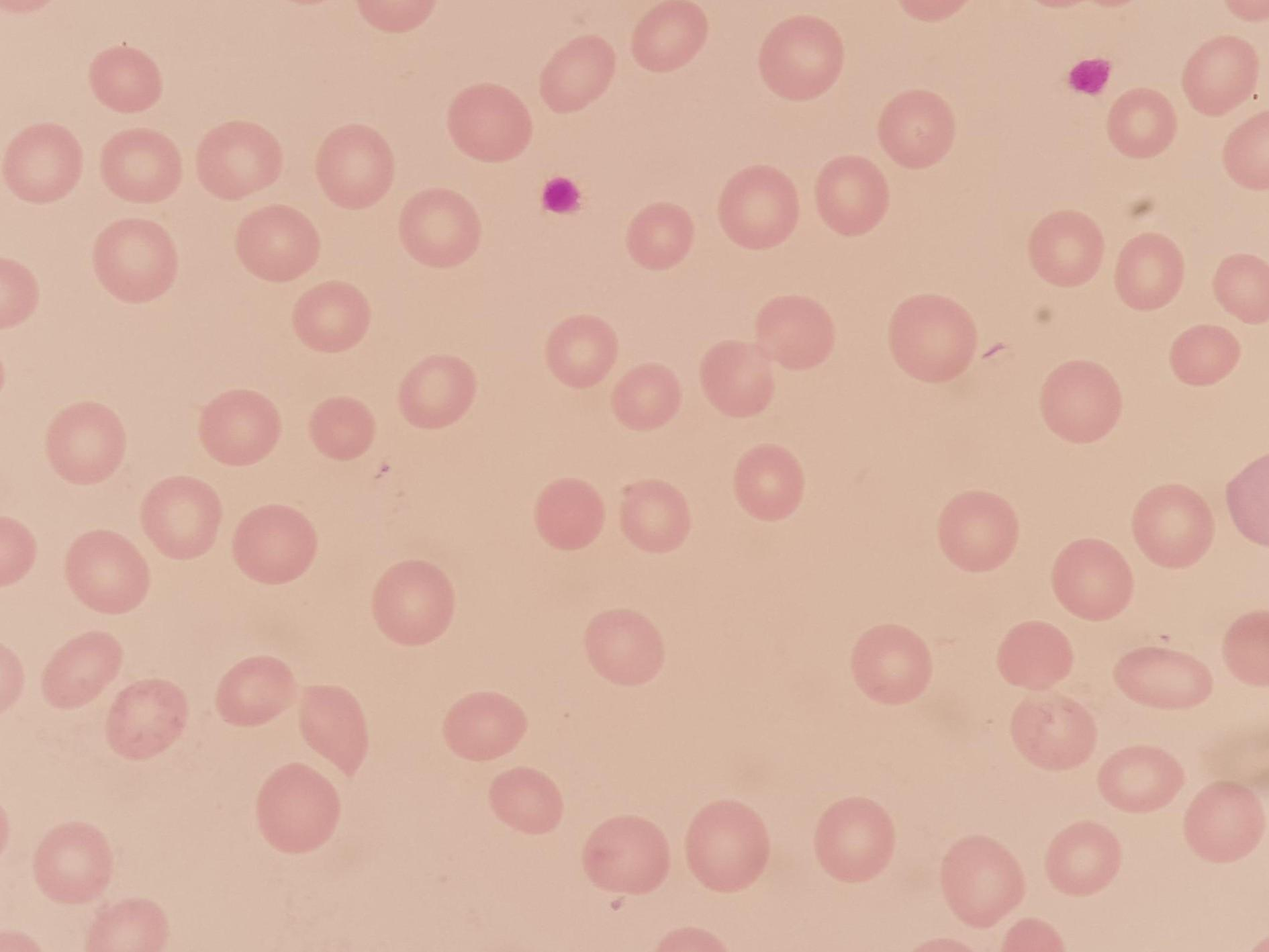Uninfected: (32, 704, 156, 769), (756, 666, 875, 733), (79, 514, 200, 577), (131, 191, 250, 255), (508, 848, 623, 912), (449, 49, 565, 111), (89, 610, 205, 672), (1134, 569, 1248, 632), (863, 70, 978, 132), (74, 437, 183, 502), (895, 177, 1002, 242), (487, 174, 597, 237), (1001, 147, 1109, 211), (675, 780, 788, 841), (228, 224, 355, 278), (408, 279, 522, 339), (989, 237, 1102, 297), (934, 538, 1047, 598), (520, 105, 633, 165), (621, 34, 734, 94), (1051, 335, 1158, 398), (240, 758, 345, 822), (328, 638, 436, 700), (505, 703, 616, 763), (322, 30, 429, 92), (256, 79, 366, 139), (439, 789, 549, 848), (64, 24, 174, 83), (117, 888, 227, 947), (321, 837, 410, 909), (883, 770, 991, 829), (646, 149, 752, 209), (997, 74, 1100, 135), (952, 611, 1063, 667), (1043, 658, 1150, 716), (910, 299, 1015, 358), (996, 3, 1104, 60), (353, 438, 457, 497), (1116, 404, 1223, 461), (72, 784, 175, 843), (1112, 888, 1222, 943), (253, 332, 351, 393), (299, 161, 397, 222), (773, 566, 874, 625), (712, 525, 815, 582), (183, 824, 276, 887), (344, 747, 443, 806), (695, 299, 796, 355), (1170, 473, 1269, 530), (853, 836, 959, 889), (573, 550, 677, 603), (532, 400, 634, 454), (797, 220, 895, 276), (749, 409, 849, 463), (1116, 66, 1210, 123), (531, 464, 631, 517), (155, 366, 246, 422), (694, 458, 787, 512), (1055, 831, 1152, 882), (907, 470, 1000, 521), (752, 877, 836, 930), (653, 231, 739, 281), (835, 911, 930, 952)
